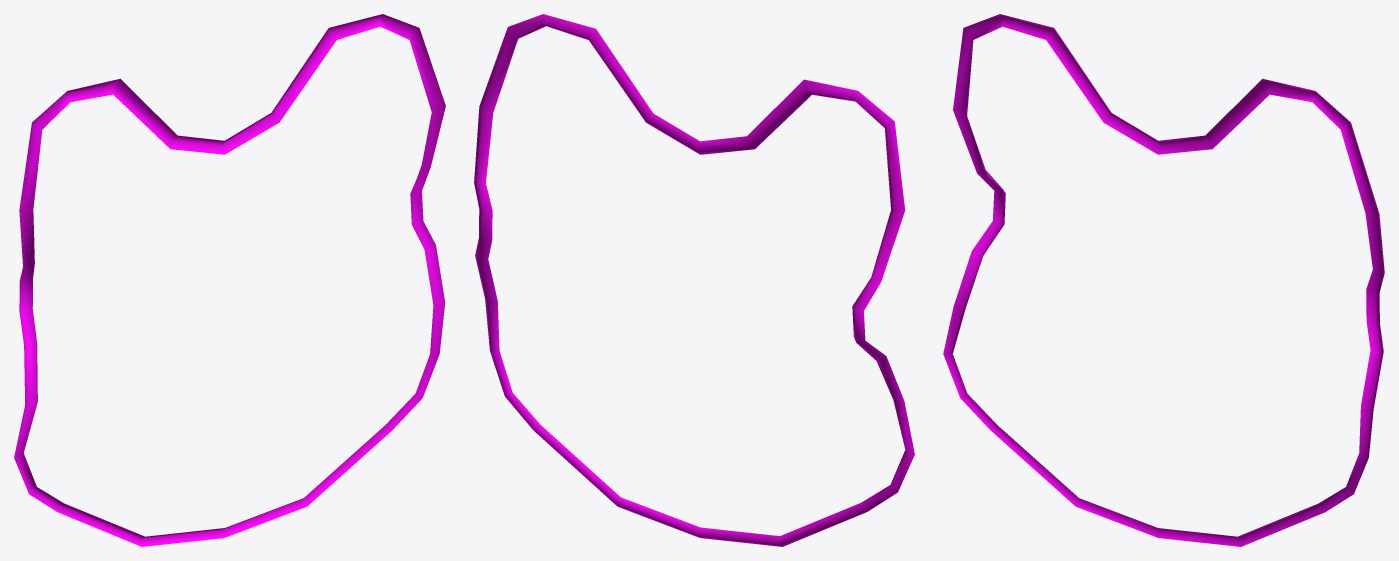
Rendered from aspis_rope.glb.
3 renders of one model, left to right at view 1: azimuth 30°, elevation 25°; view 2: azimuth 150°, elevation 25°; view 3: azimuth 330°, elevation 25°, orthographic.
Visible parts, largest first — view 1: Cilindro_003-mesh; view 2: Cilindro_003-mesh; view 3: Cilindro_003-mesh.
Boxes of the visible parts, x1=… form: Cilindro_003-mesh: x1=14, y1=14, x2=445, y2=546; Cilindro_003-mesh: x1=474, y1=14, x2=914, y2=546; Cilindro_003-mesh: x1=943, y1=14, x2=1384, y2=546.
Size of the model in its own units: 1.07 by 1.14 by 0.1105.
